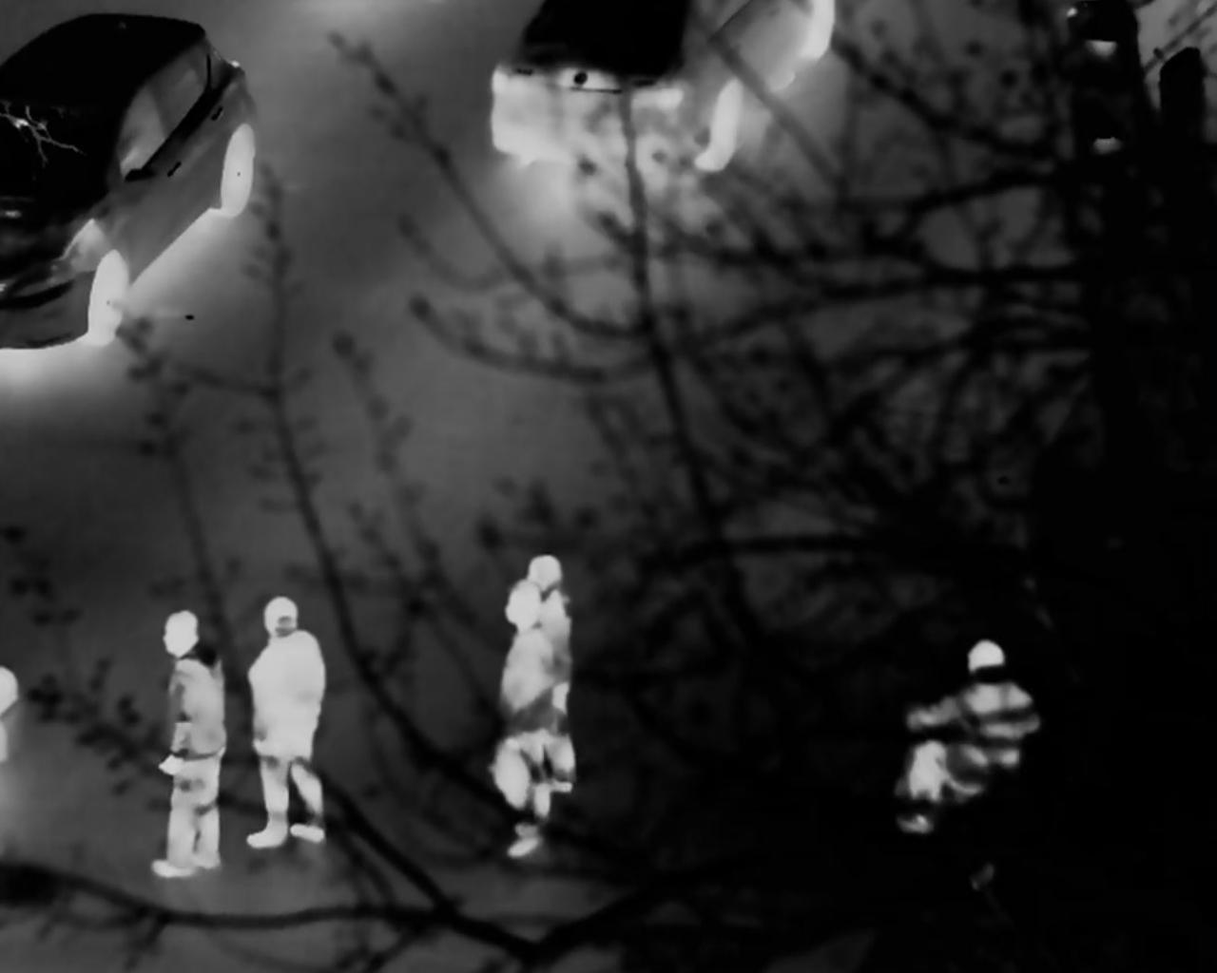person: (907, 634, 1035, 832), (497, 563, 569, 830), (154, 606, 226, 871), (249, 592, 325, 831)
